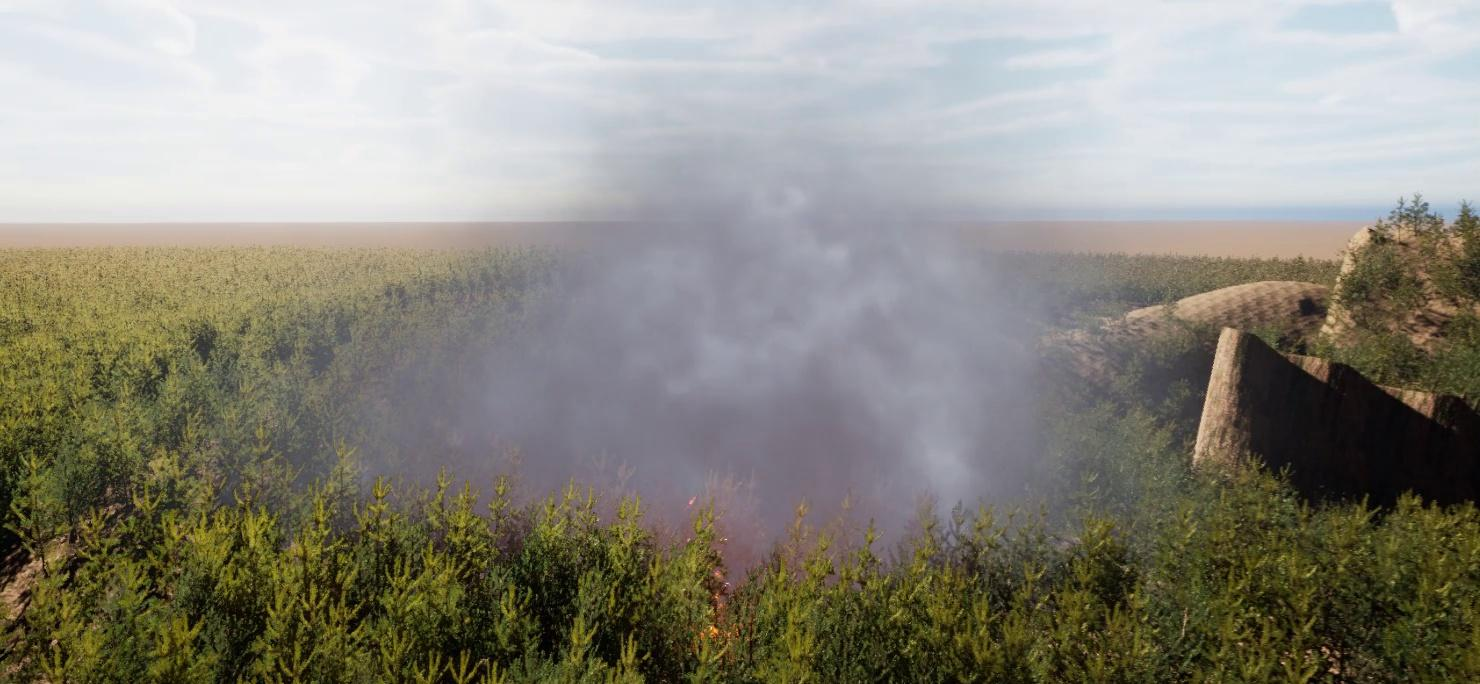smoke: (178, 8, 1121, 583)
